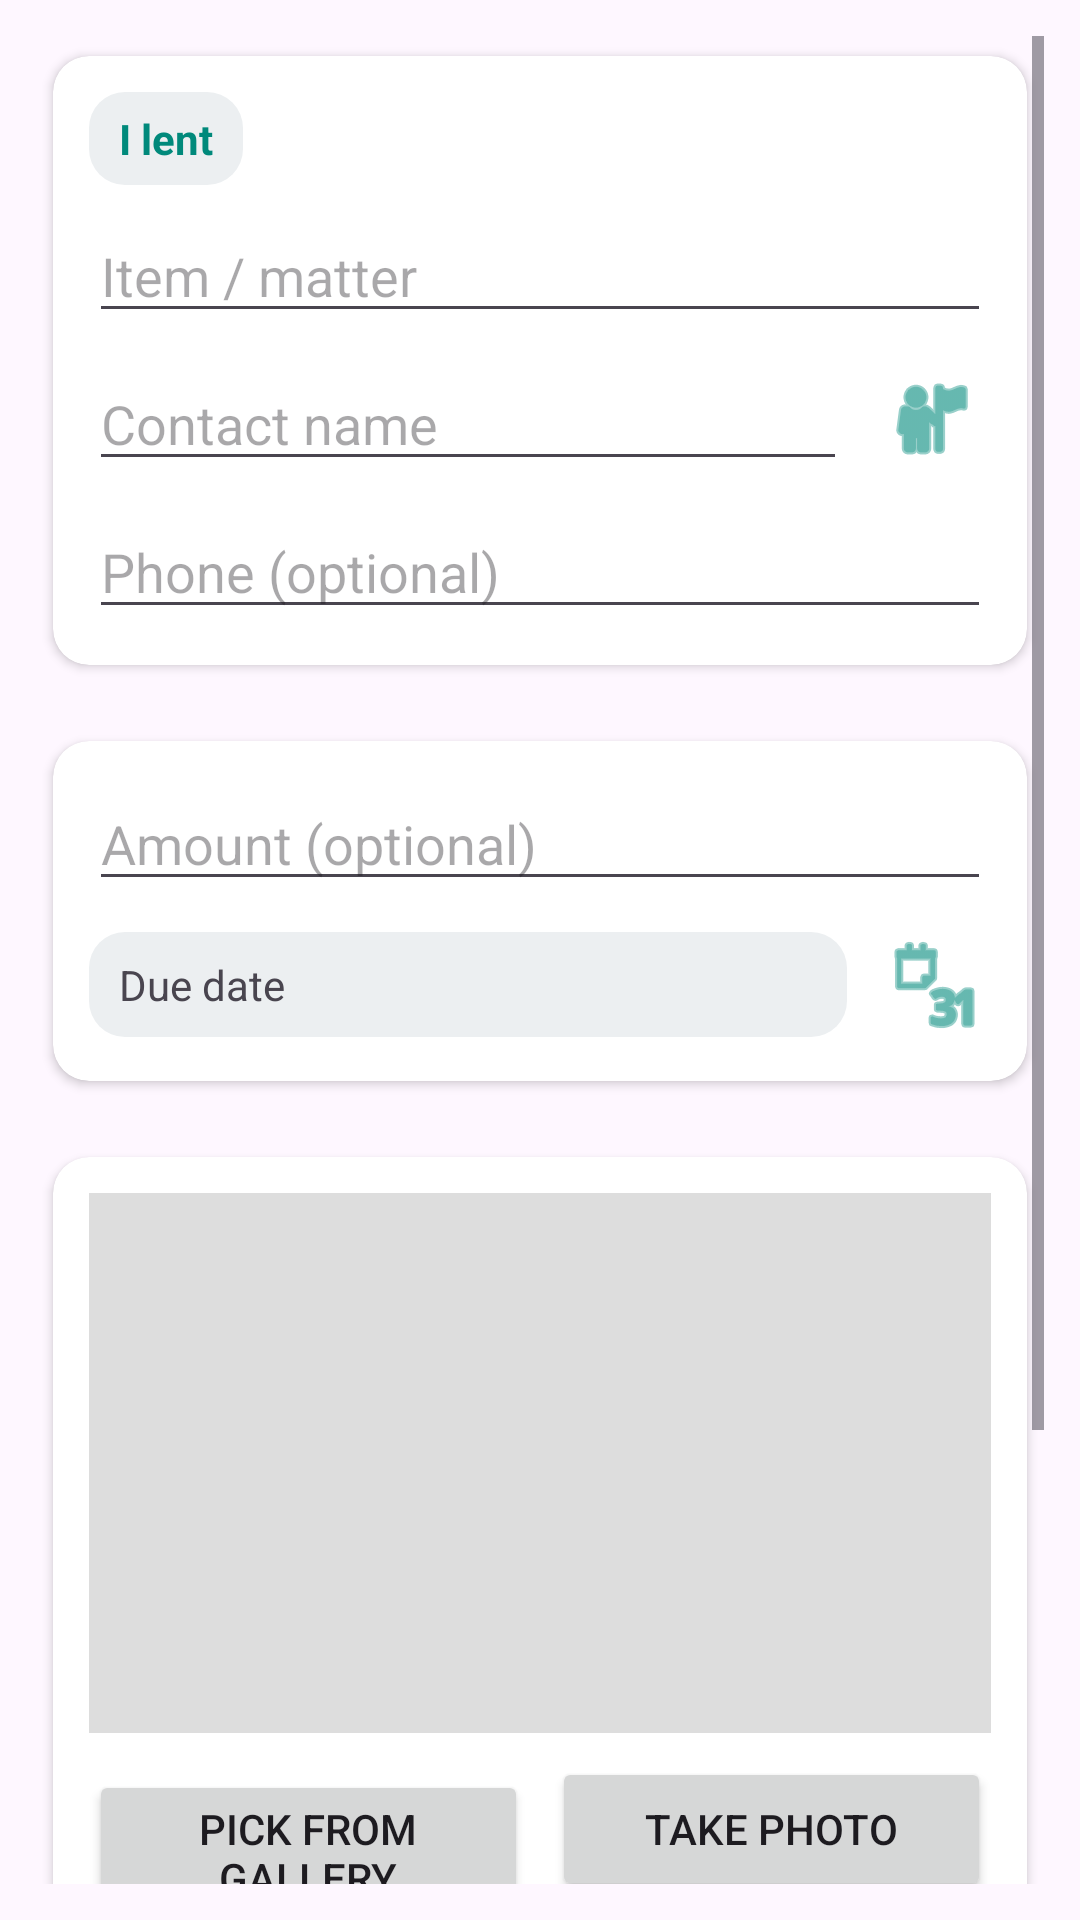

Where to tap for icons on this 1080px×1920px app screen, as point (x, y):
选择日期按钮: point (934, 985)
